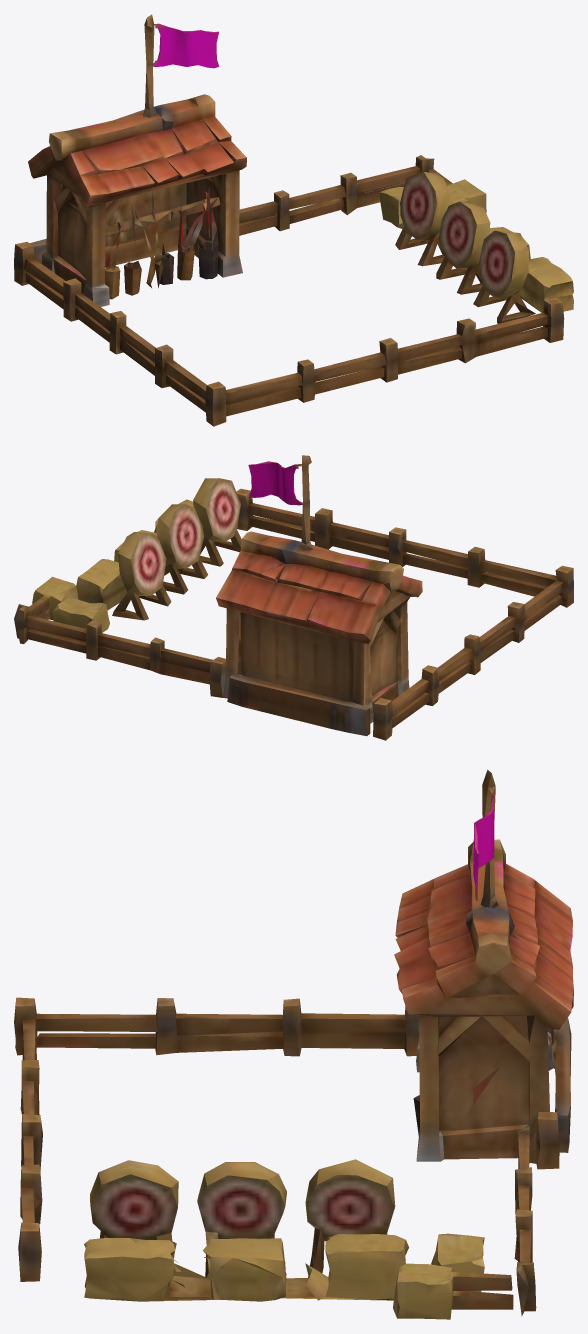
File: archery.lod2.glb
3 renders of one model, top to bottom at view 1: azimuth 30°, elevation 25°; view 2: azimuth 150°, elevation 25°; view 3: azimuth 270°, elevation 25°, orthographic. The views are drawn at different scales.
Parts seen in each view (by area): view 1: archery.lod2_uv; view 2: archery.lod2_uv; view 3: archery.lod2_uv.
Part boxes in pixels (<box>): archery.lod2_uv: <box>14,14,573,426</box>; archery.lod2_uv: <box>14,455,573,740</box>; archery.lod2_uv: <box>14,769,573,1319</box>.
Bounding box in the file's own units: 1.89 × 1.12 × 1.62.
Materials: 1 (1 with a texture image).
